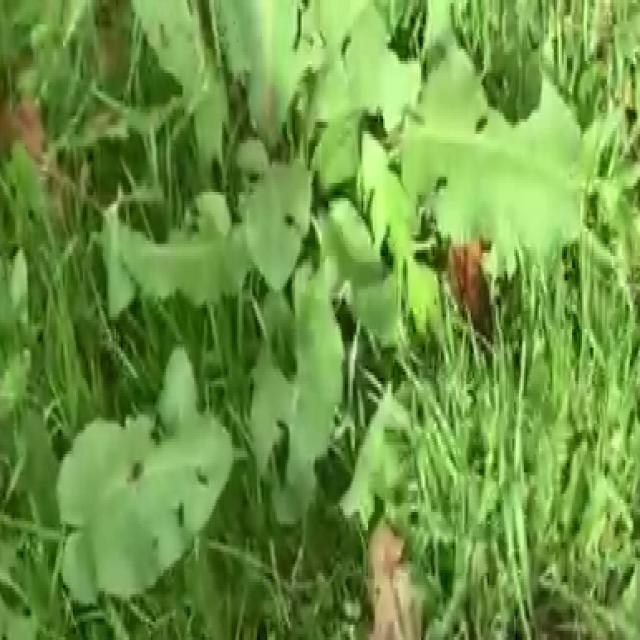organic waste: (47, 0, 620, 640)
